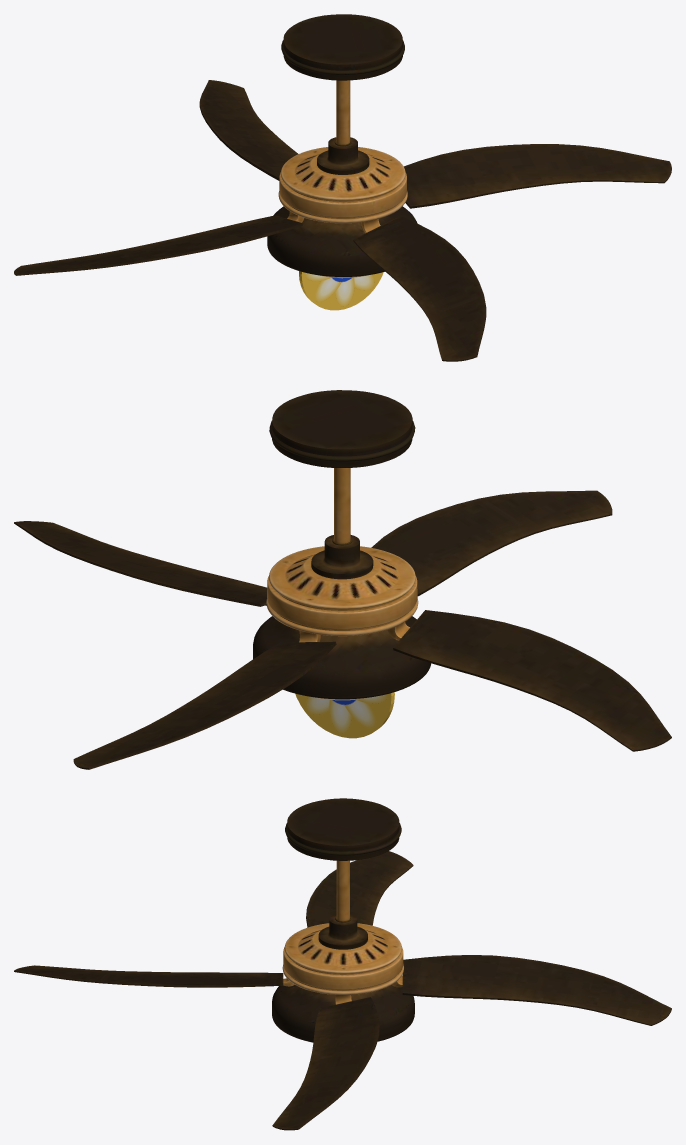
Rendered from nyb_miracle_fan.glb.
3 renders of one model, top to bottom at view 1: azimuth 30°, elevation 25°; view 2: azimuth 150°, elevation 25°; view 3: azimuth 270°, elevation 25°, orthographic. The views are drawn at different scales.
Parts seen in each view (by area): view 1: ceiling_fan, add_eyeflower_gold.png, Cylinder; view 2: ceiling_fan, add_eyeflower_gold.png, Cylinder; view 3: ceiling_fan.
Part boxes in pixels (x1,y1,x2,y2): ceiling_fan: (14, 14, 671, 361); add_eyeflower_gold.png: (304, 272, 374, 306); Cylinder: (299, 271, 383, 310); ceiling_fan: (14, 390, 671, 769); add_eyeflower_gold.png: (305, 694, 387, 734); Cylinder: (295, 692, 394, 738); ceiling_fan: (14, 798, 671, 1130).
Bounding box in the file's own units: 1.46 × 0.6193 × 1.46.
3 materials, 2 textured.
